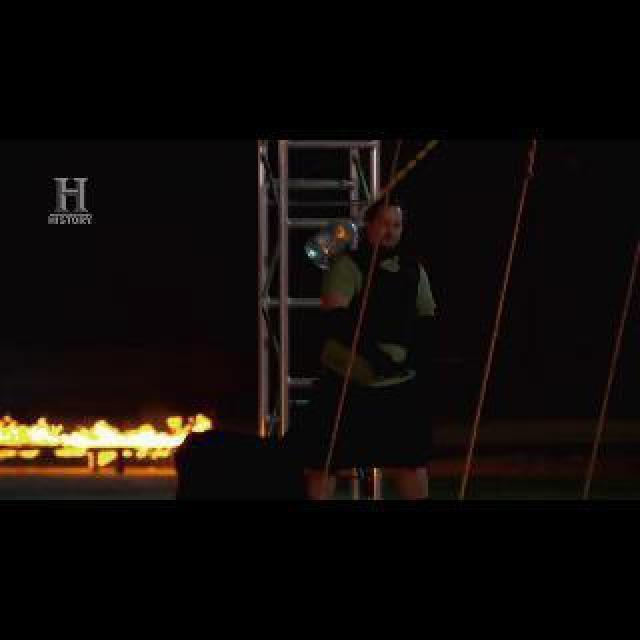Fire: (2, 410, 214, 456)
